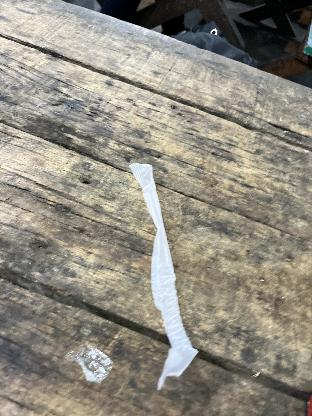Others: (128, 157, 196, 391), (77, 344, 115, 380)
